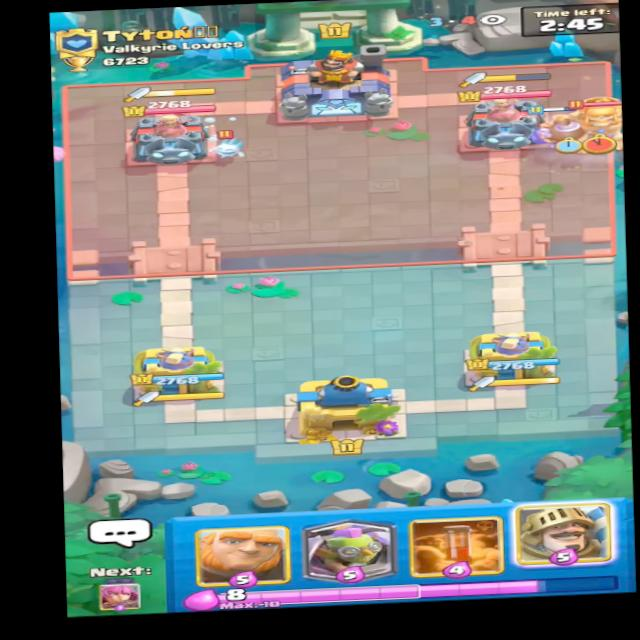giant-skeleton: (539, 93, 637, 154)
ice-spirit: (208, 132, 250, 160)
